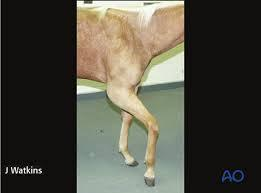fracture: (101, 75, 166, 193)
